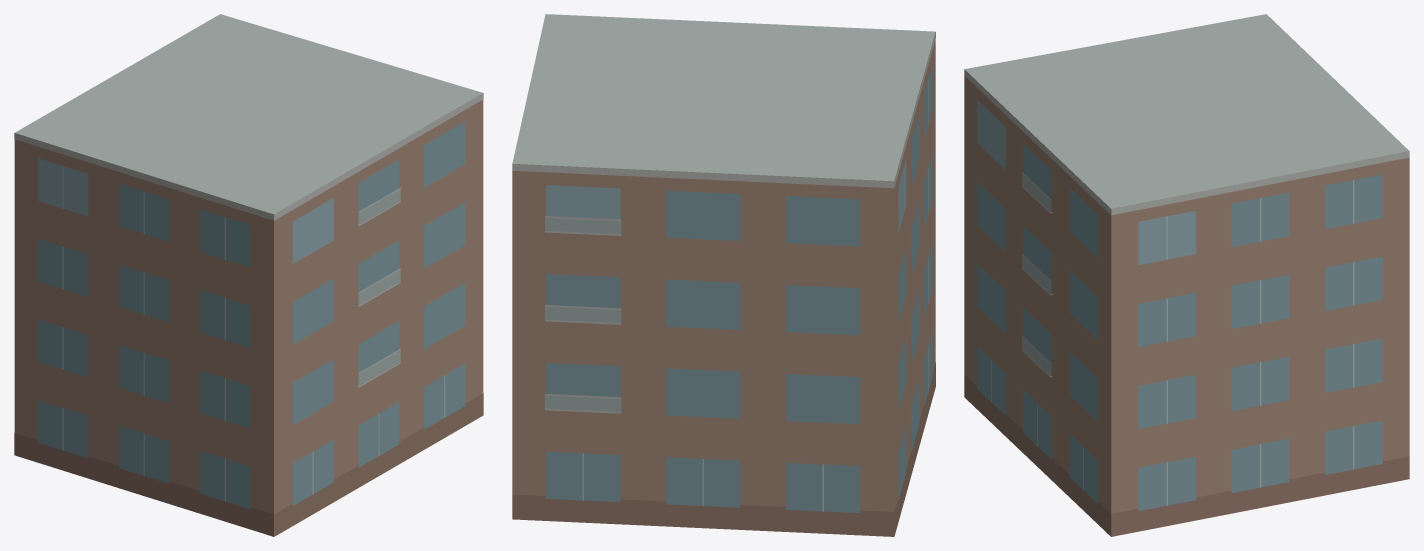
The model's file is survey-upis-32732805.glb.
The picture shows the model from 3 angles, left to right: view 1: azimuth 30°, elevation 25°; view 2: azimuth 150°, elevation 25°; view 3: azimuth 270°, elevation 25°; orthographic projection. The views are drawn at different scales.
Parts seen in each view (by area): view 1: survey-upis-32732805.tmp; view 2: survey-upis-32732805.tmp; view 3: survey-upis-32732805.tmp.
Part boxes in pixels (<box>): survey-upis-32732805.tmp: <box>14,14,483,536</box>; survey-upis-32732805.tmp: <box>512,14,935,536</box>; survey-upis-32732805.tmp: <box>964,14,1409,536</box>.
Bounding box in the file's own units: 15.81 × 12.4 × 15.27.
